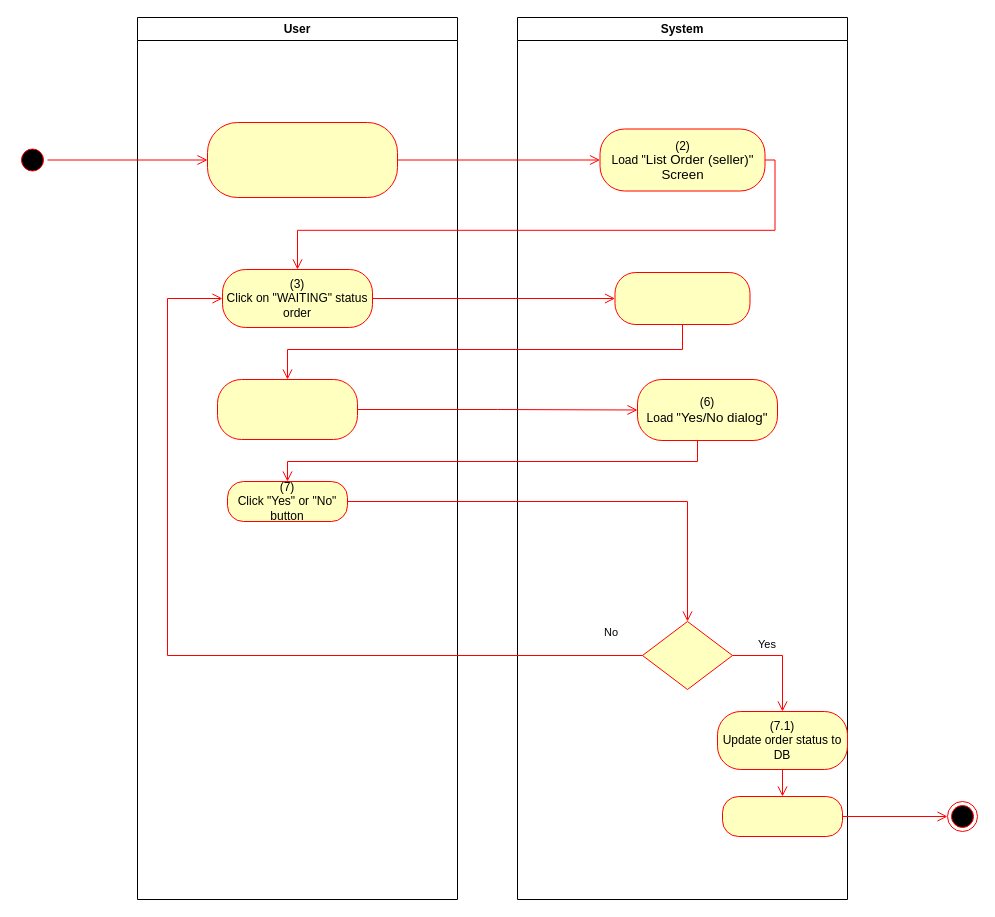
The diagram is 995 pixels wide and 917 high, and some of its shapes have lost their labels. Each missing label, with the centre of its shape:
(1) On "left menu" click " Order Management ": point 302,160
(4) Load " Order detail (seller) ": point 682,298
(5) Click button " Xác nhận đơn ": point 287,409
(6) Update UI: point 782,816
